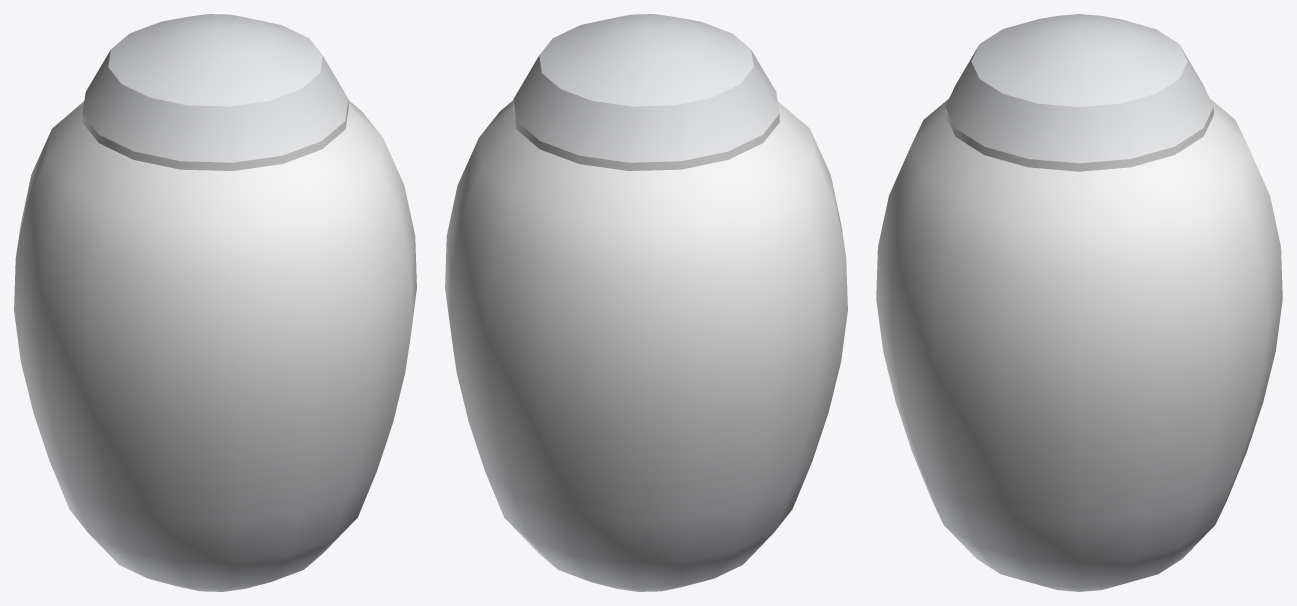
File: Vase_UrnShape.fbx
3 renders of one model, left to right at view 1: azimuth 30°, elevation 25°; view 2: azimuth 150°, elevation 25°; view 3: azimuth 270°, elevation 25°, orthographic.
Parts seen in each view (by area): view 1: Vase_UrnShape; view 2: Vase_UrnShape; view 3: Vase_UrnShape.
Part boxes in pixels (x1,y1,x2,y2): Vase_UrnShape: (14, 14, 416, 591); Vase_UrnShape: (445, 14, 847, 591); Vase_UrnShape: (876, 14, 1282, 591).
Bounding box in the file's own units: 26.1 × 38.19 × 26.1.
